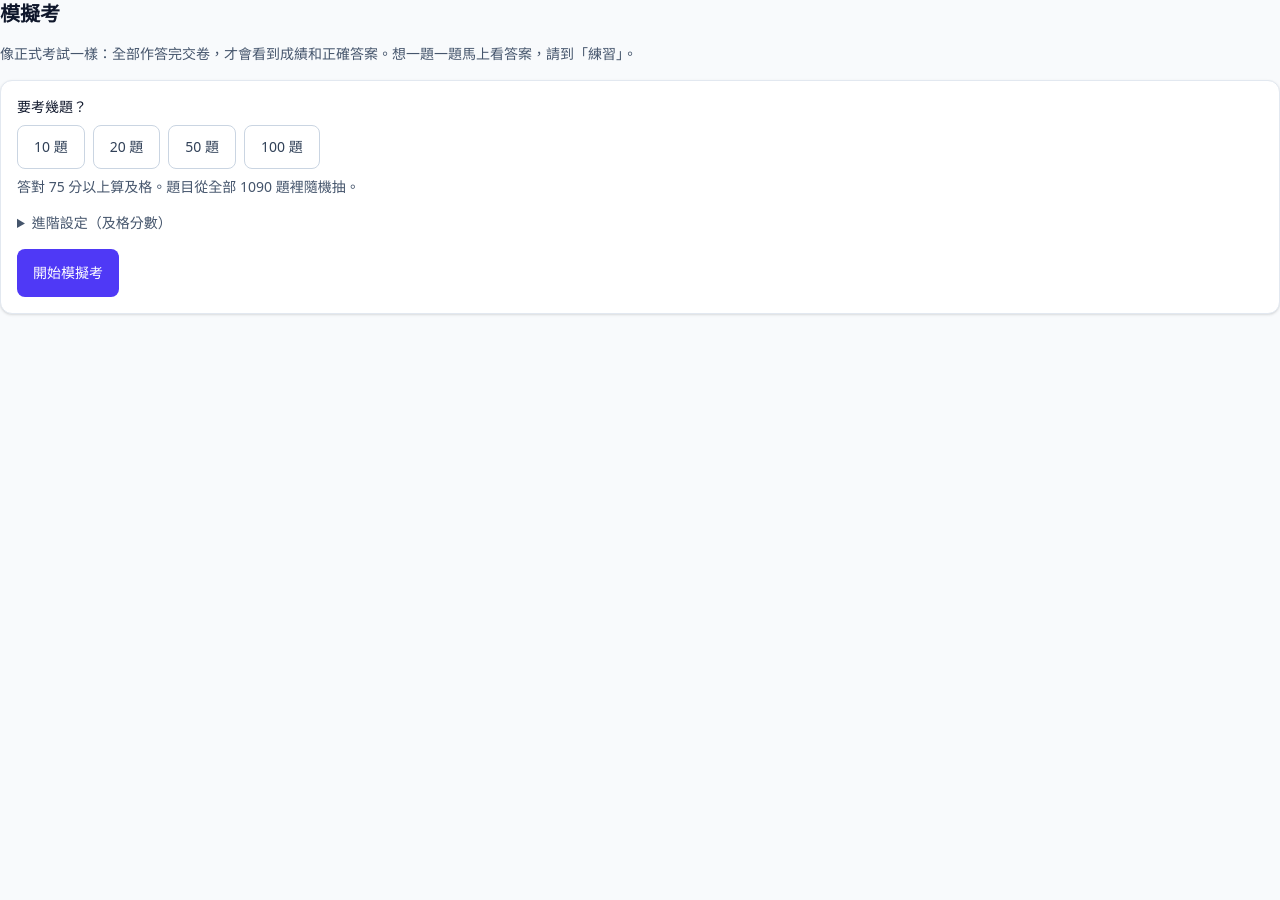
Test: 模擬考流程 › 未作答視為答錯，且不進錯題本
Click the button "開始模擬考" at (68, 273), box [17, 249, 119, 297]
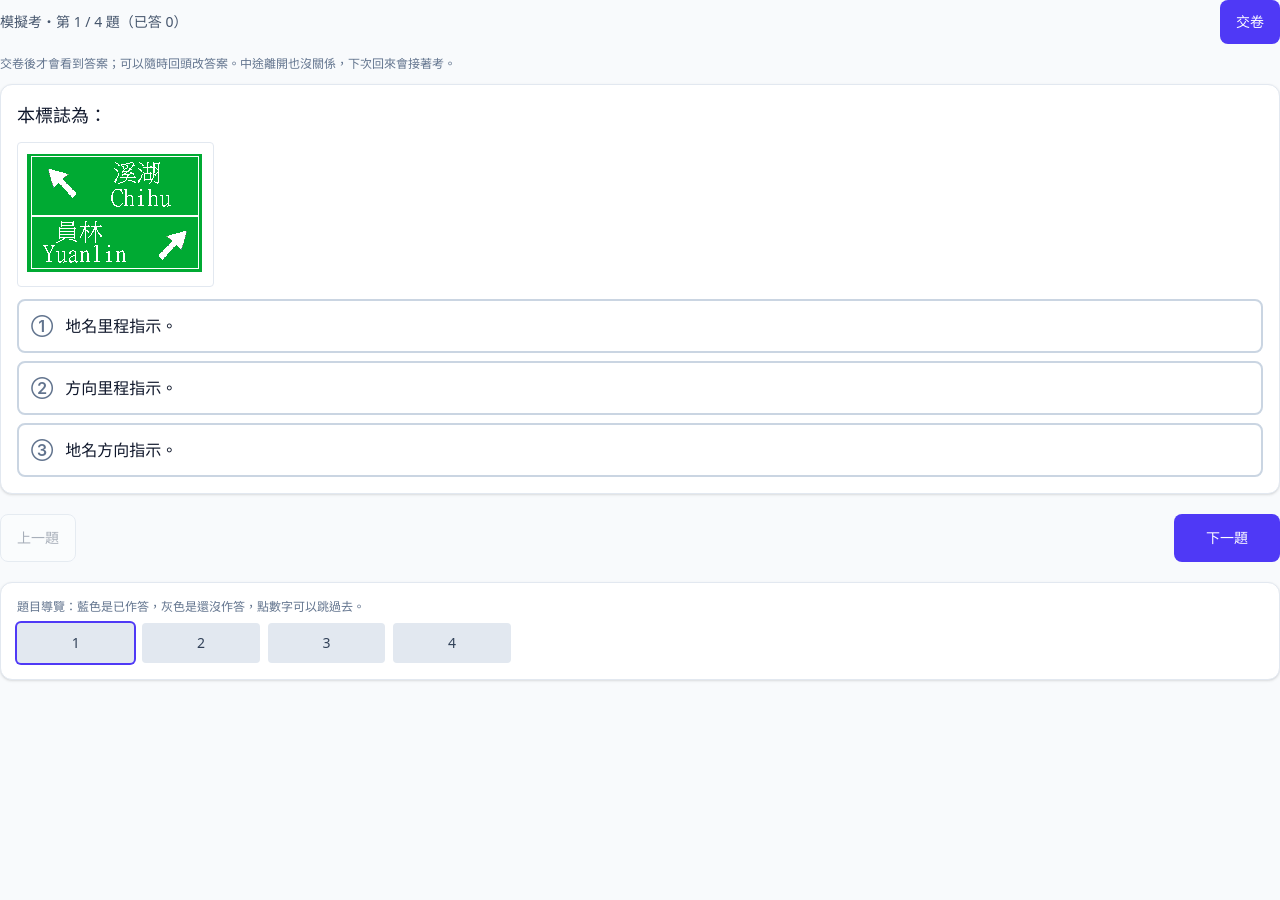
Click the button "交卷" at (1250, 22), box [1220, 0, 1279, 44]
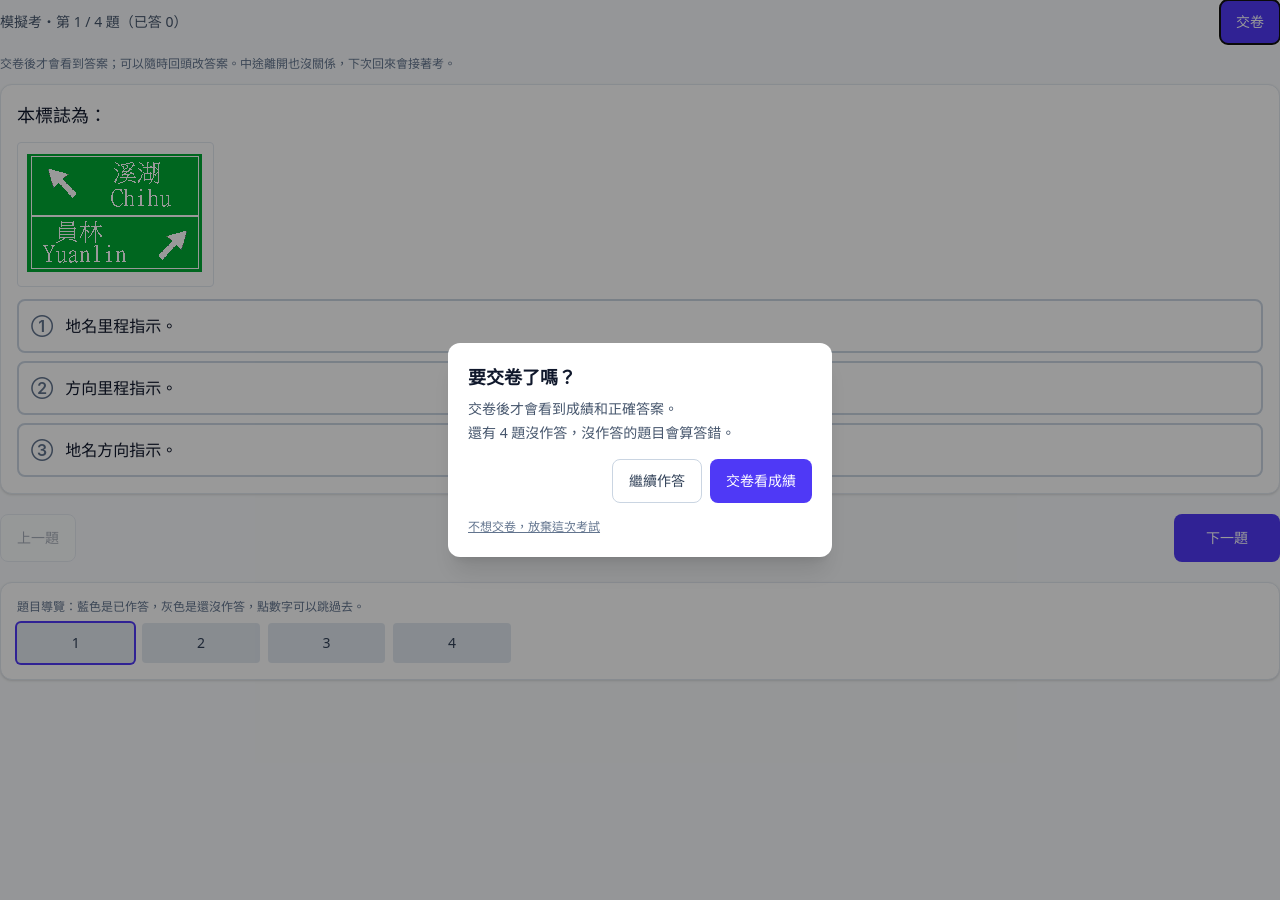
Expected: the text "還有 4 題沒作答，沒作答的題目會算答錯。" is shown, [468, 423, 735, 442]
Click the button "交卷看成績" at (761, 481), box [710, 459, 812, 503]
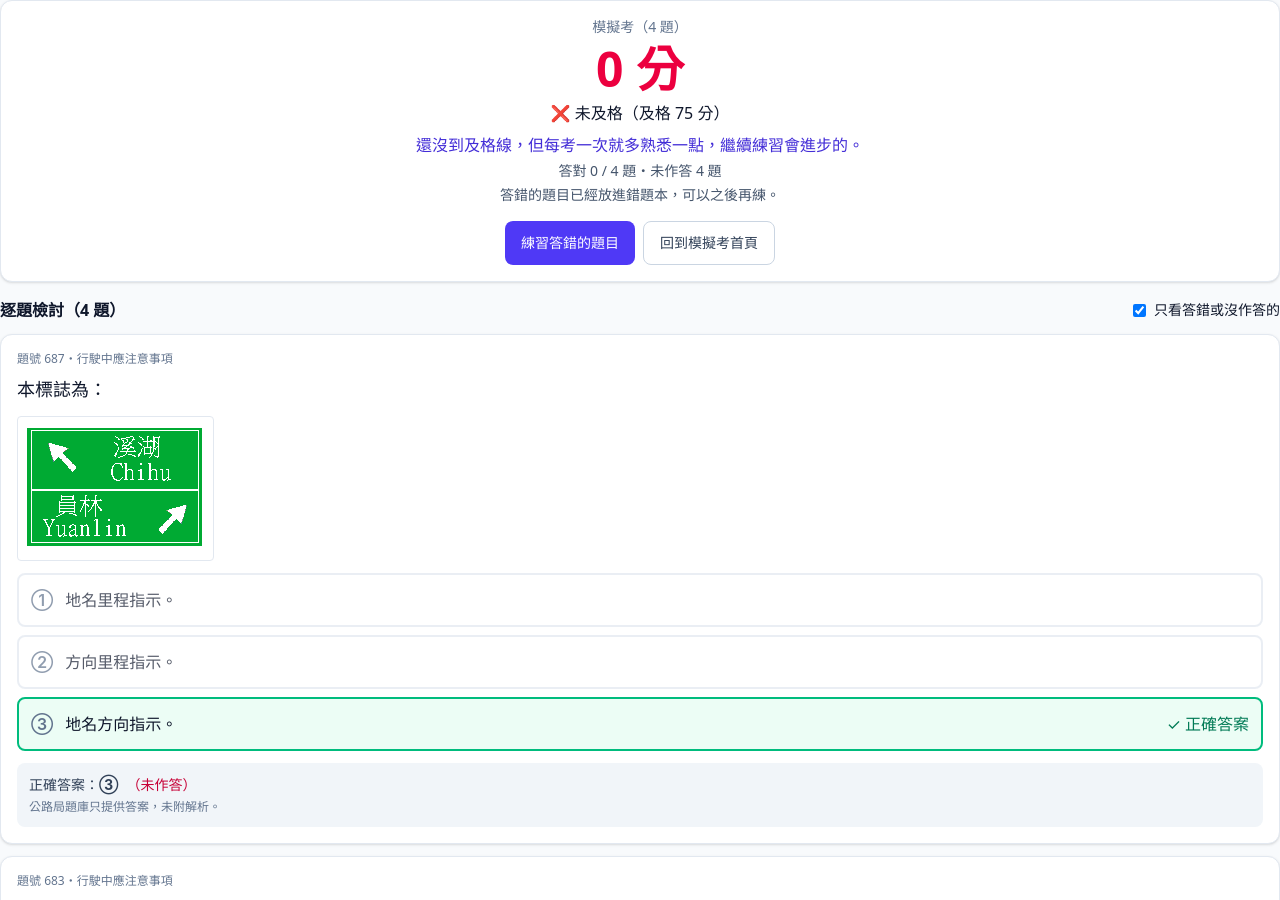
Expected: the text "0 分" is shown, [596, 36, 684, 101]
